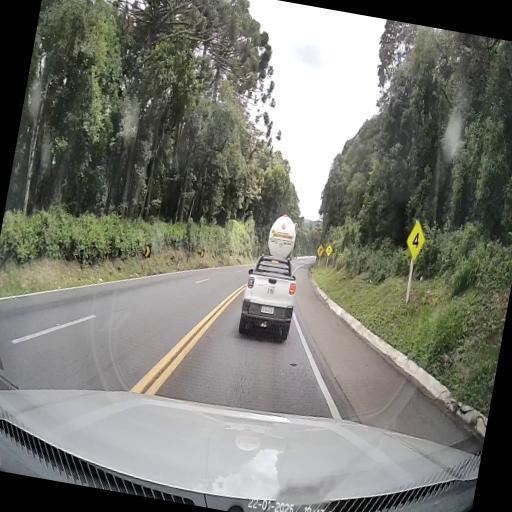A-1b: (314, 243, 324, 257)
